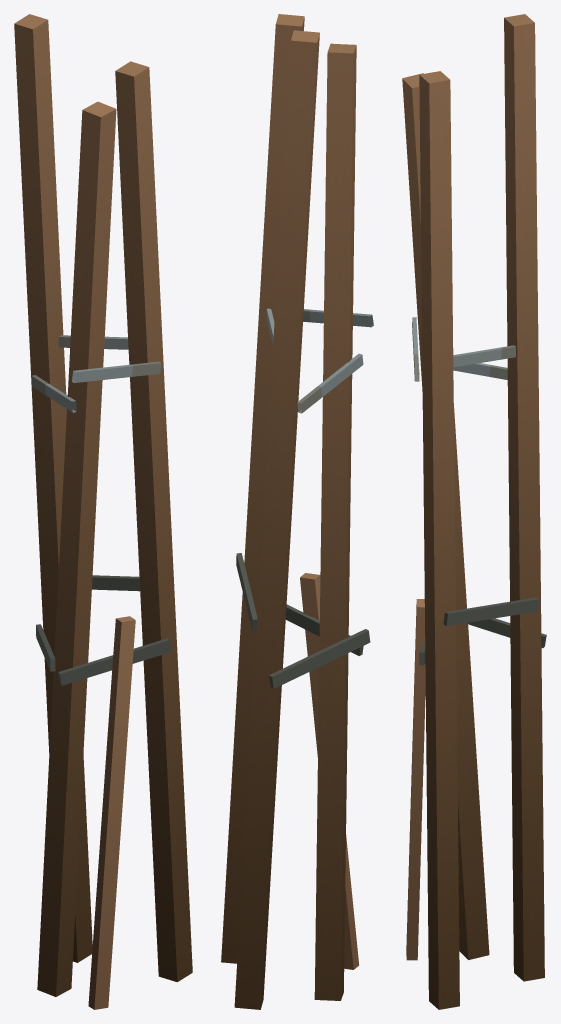
The model's file is ZLP_Build_D_15.FBX.
3 views of the same model, side by side, from view 1: azimuth 30°, elevation 25°; view 2: azimuth 150°, elevation 25°; view 3: azimuth 270°, elevation 25° (orthographic). The views are drawn at different scales.
Parts seen in each view (by area): view 1: ZLP_Build_D_15; view 2: ZLP_Build_D_15; view 3: ZLP_Build_D_15.
Boxes of the visible parts, x1=… form: ZLP_Build_D_15: x1=14, y1=14, x2=192, y2=1009; ZLP_Build_D_15: x1=221, y1=14, x2=373, y2=1009; ZLP_Build_D_15: x1=402, y1=14, x2=546, y2=1009.
Size of the model in its own units: 50.63 by 323 by 45.35.
